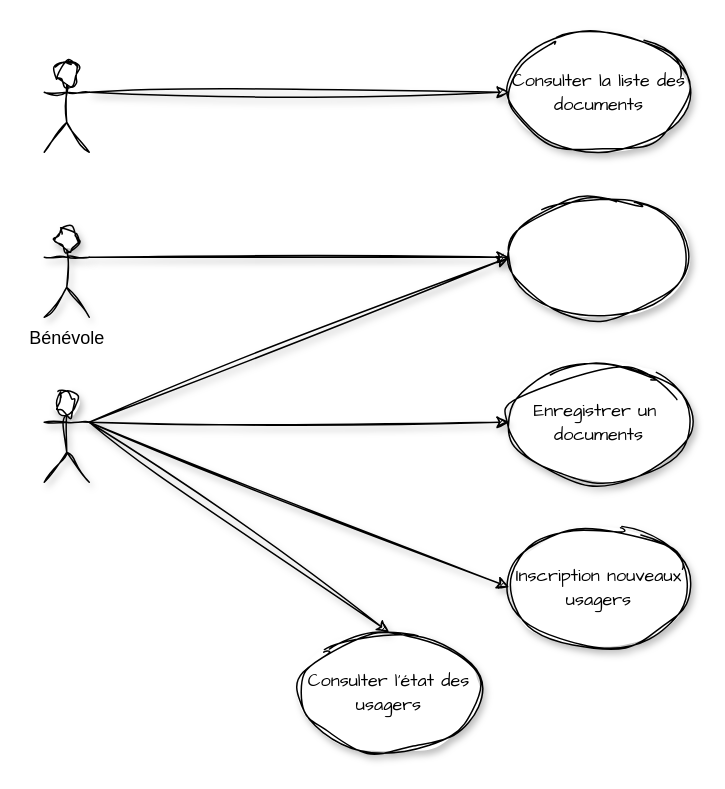
Image size: 725x789. Some labels were removed from this diagram. Each missing label, with the centre of its shape:
Effectuer un prêt de documents: the point at 600,259
Personnel: the point at 67,439
Usager: the point at 66,106
